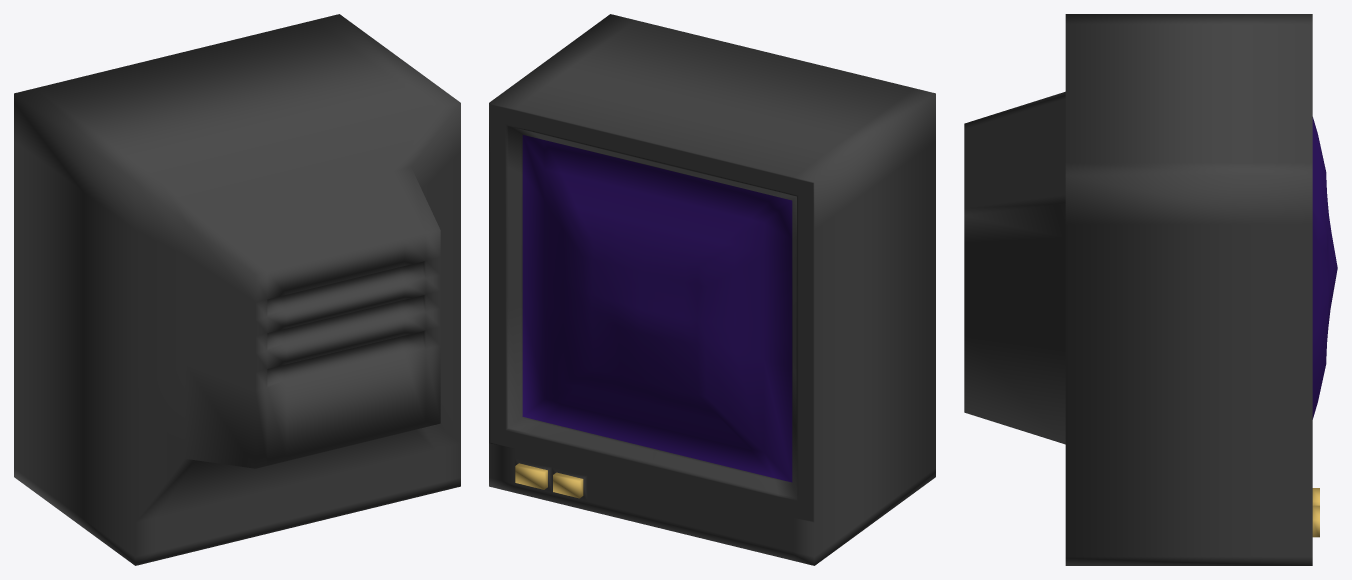
File: Monitor2.fbx
The picture shows the model from 3 angles, left to right: view 1: azimuth 30°, elevation 25°; view 2: azimuth 150°, elevation 25°; view 3: azimuth 270°, elevation 25°; orthographic projection.
Parts seen in each view (by area): view 1: Cube.075; view 2: Cube.075; view 3: Cube.075.
Part boxes in pixels (x1=…): Cube.075: x1=14, y1=14, x2=460, y2=565; Cube.075: x1=489, y1=14, x2=935, y2=565; Cube.075: x1=964, y1=14, x2=1337, y2=565.
Size of the model in its own units: 58.3 by 65.67 by 56.94.
